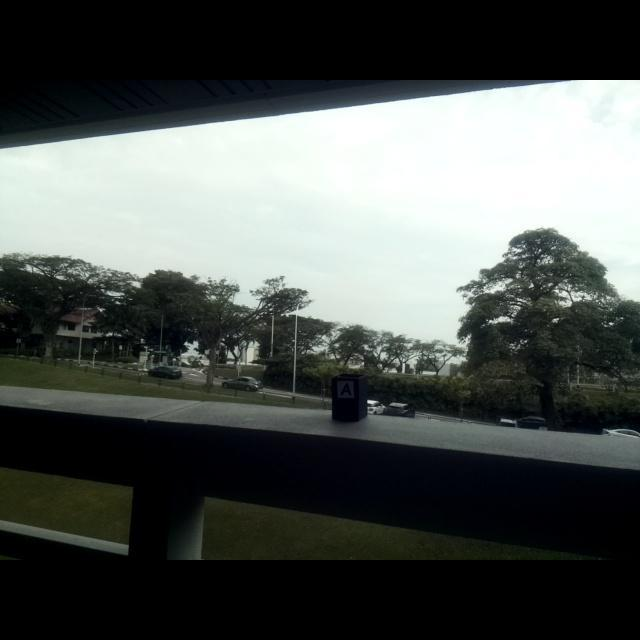A: (339, 382, 353, 398)
